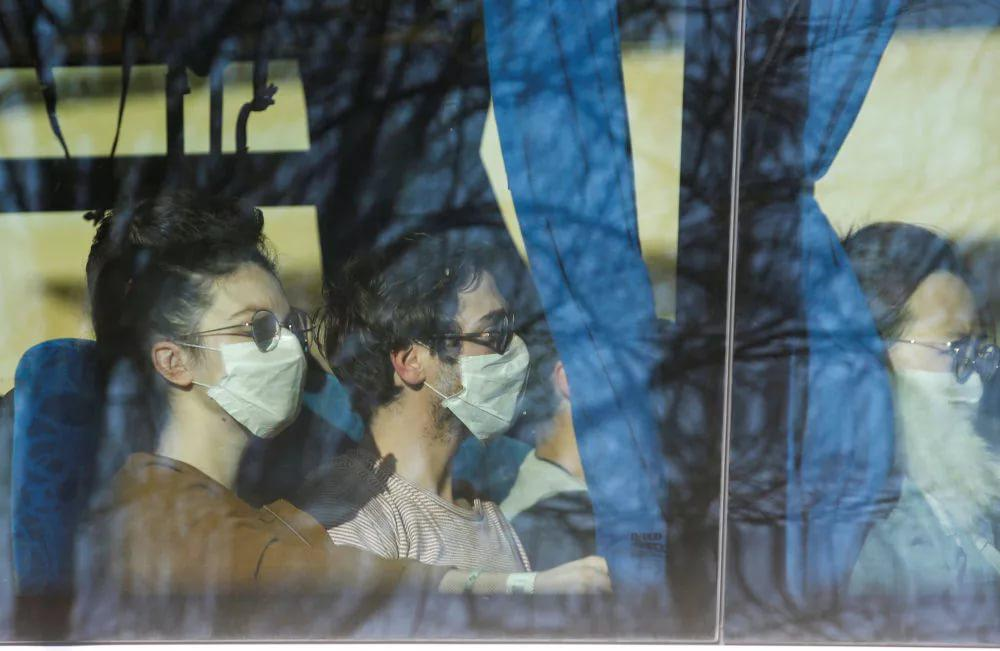mask: (881, 252, 1000, 436), (185, 275, 310, 438), (429, 264, 531, 438), (399, 342, 430, 381)
